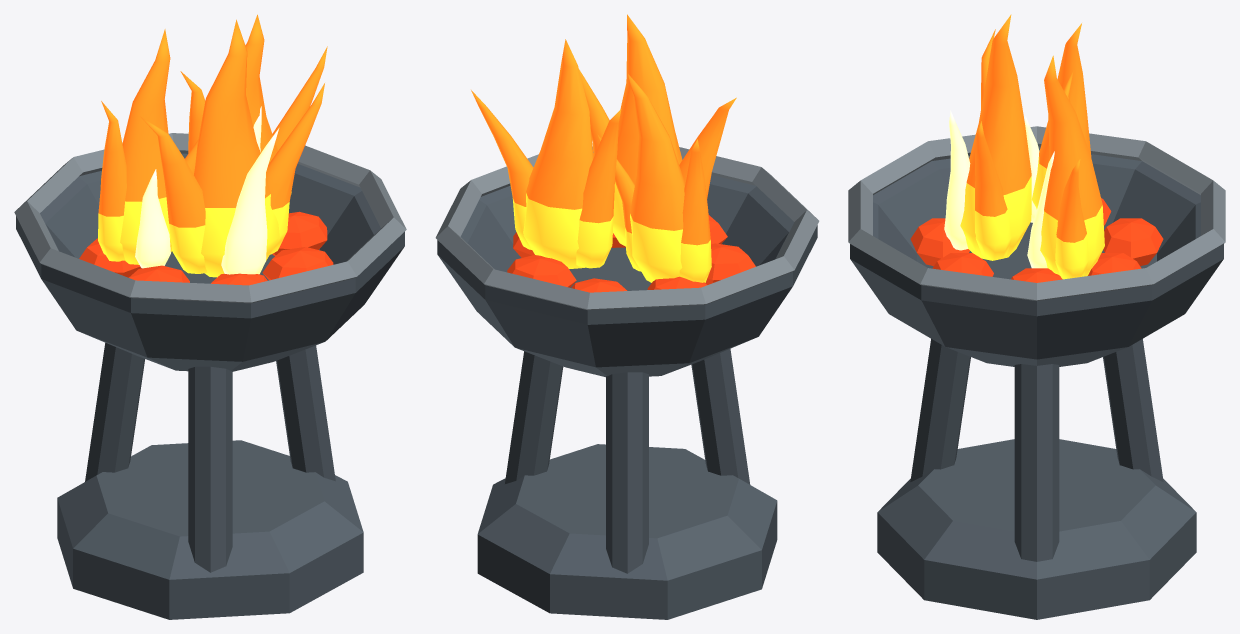
The model's file is PROP_07_Brazier.glb.
3 renders of one model, left to right at view 1: azimuth 30°, elevation 25°; view 2: azimuth 150°, elevation 25°; view 3: azimuth 270°, elevation 25°, orthographic. The views are drawn at different scales.
Visible parts, largest first — view 1: PROP_07_Brazier; view 2: PROP_07_Brazier; view 3: PROP_07_Brazier.
Part boxes in pixels (<box>): PROP_07_Brazier: <box>14,14,406,619</box>; PROP_07_Brazier: <box>435,14,819,619</box>; PROP_07_Brazier: <box>848,14,1225,619</box>.
Size of the model in its own units: 1.07 by 1.62 by 1.02.
